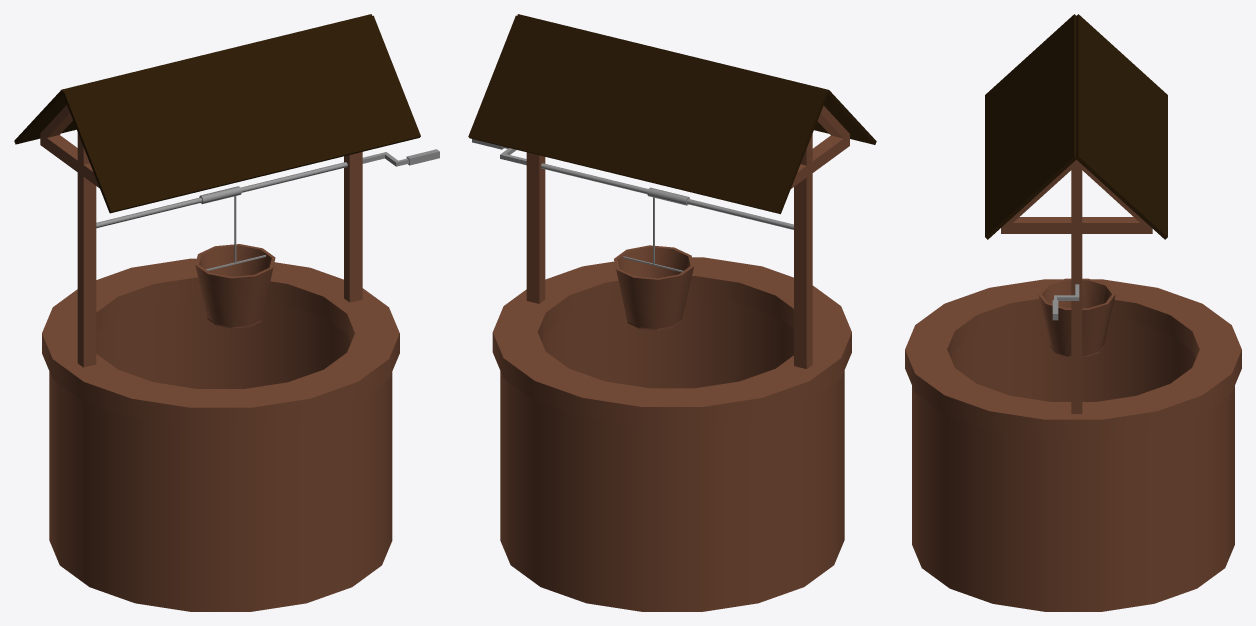
Rendered from Poco.fbx.
The picture shows the model from 3 angles, left to right: view 1: azimuth 30°, elevation 25°; view 2: azimuth 150°, elevation 25°; view 3: azimuth 270°, elevation 25°; orthographic projection. The views are drawn at different scales.
Visible parts, largest first — view 1: Tube001, Box042, Tube002, Box039, Tube003, Box043, Cylinder004, Box040; view 2: Tube001, Box043, Tube002, Box039, Tube003, Box042, Cylinder004; view 3: Tube001, Tube002, Box043, Box042, Box039, Tube003.
Part boxes in pixels (left/top/right/bottom): Tube001: left=49, top=297, right=392, bottom=611; Box042: left=62, top=15, right=420, bottom=213; Tube002: left=42, top=258, right=399, bottom=427; Box039: left=40, top=105, right=362, bottom=367; Tube003: left=195, top=244, right=275, bottom=328; Box043: left=14, top=14, right=371, bottom=144; Cylinder004: left=96, top=162, right=347, bottom=228; Box040: left=362, top=149, right=439, bottom=166; Tube001: left=500, top=296, right=844, bottom=611; Box043: left=468, top=15, right=827, bottom=214; Tube002: left=492, top=257, right=851, bottom=427; Box039: left=526, top=105, right=849, bottom=368; Tube003: left=614, top=245, right=694, bottom=330; Box042: left=517, top=14, right=876, bottom=144; Cylinder004: left=541, top=163, right=793, bottom=229; Tube001: left=912, top=317, right=1234, bottom=611; Tube002: left=905, top=279, right=1241, bottom=438; Box043: left=1076, top=14, right=1167, bottom=239; Box042: left=985, top=14, right=1076, bottom=239; Box039: left=1001, top=160, right=1152, bottom=413; Tube003: left=1038, top=278, right=1115, bottom=357.
Bounding box in the file's own units: 28.22 × 24 × 36.06.
